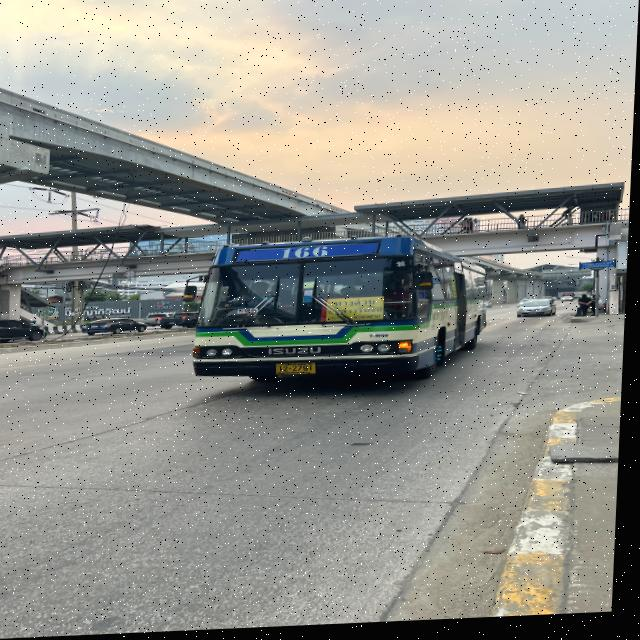BMTA-bus: (193, 236, 496, 391)
Bus-Line-Number: (277, 247, 338, 262)
Destination-Sign-Normal-Expressway: (331, 300, 389, 326)
